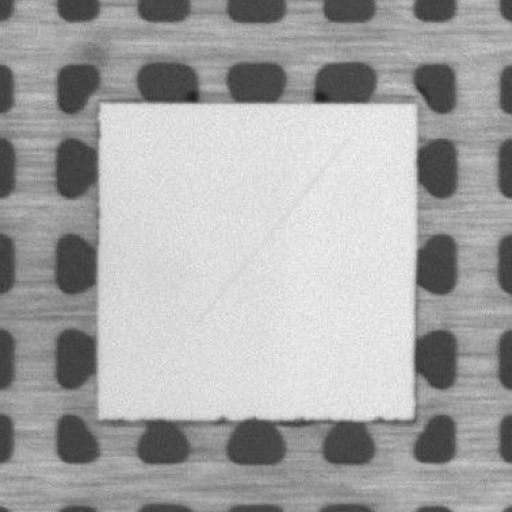DIE_CRACK: (197, 136, 347, 320)
